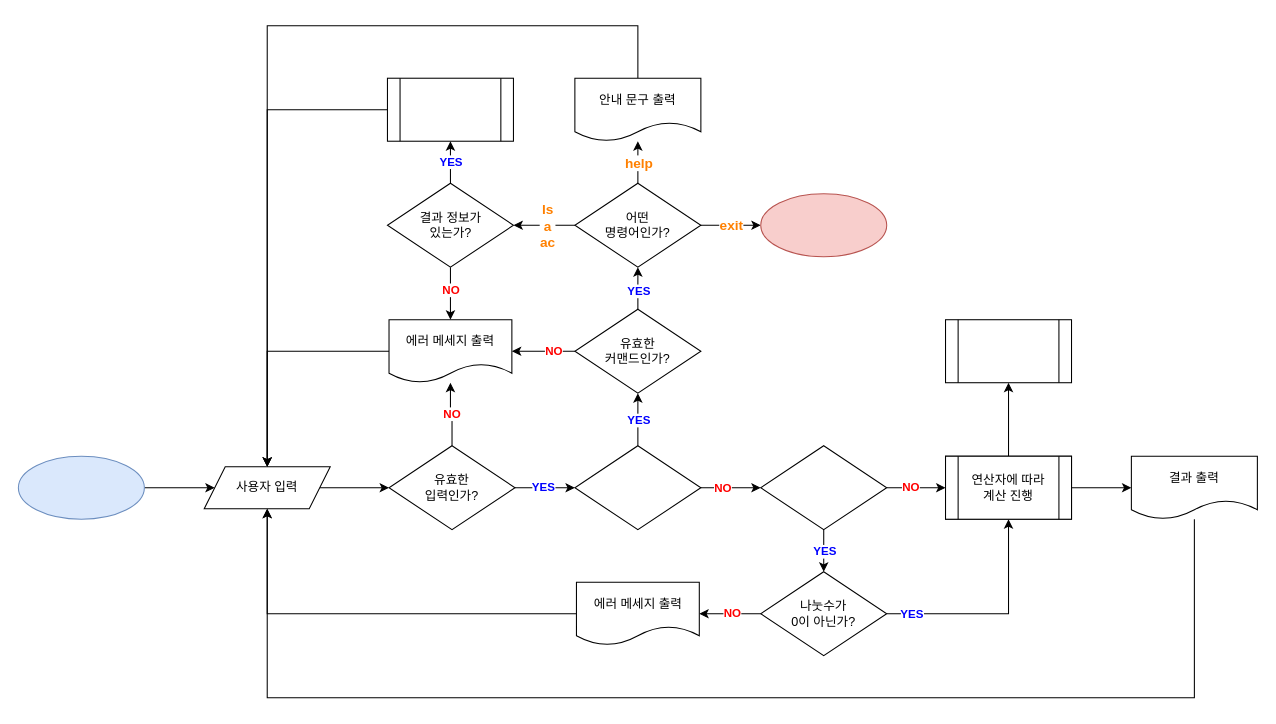
This 1276x724 diagram has some shape labels left out. The shapes that lost their labels are listed below. From the top down, each one's centre as x and y in pixels, then its label:
[449,109]: 커맨드에 맞는 적절한 동작 (조회, 삭제)
[823,225]: 종료
[1008,351]: 계산 결과 저장
[80,487]: 시작
[637,487]: 커맨드인가?
[823,487]: 나눗셈인가? ( / , % )
